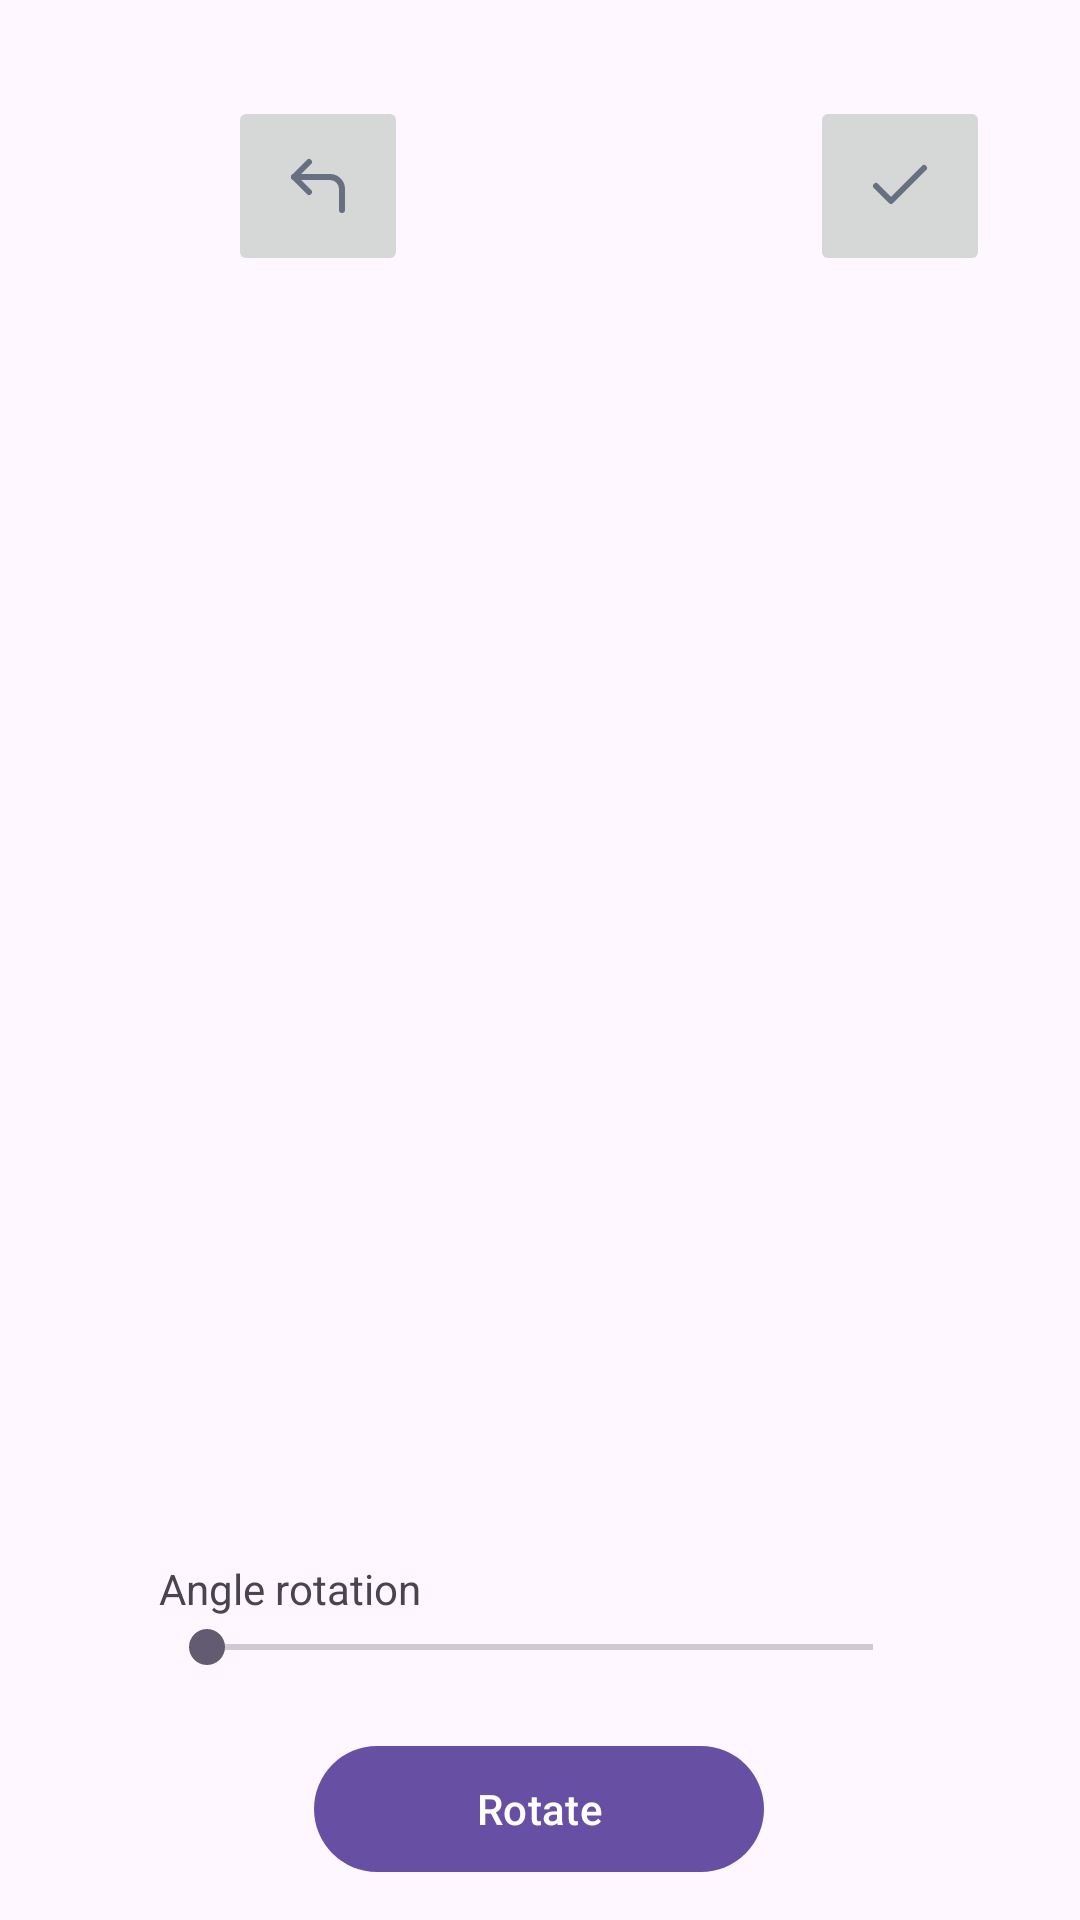

Point at icon controls on the screen. Image size 1080w x 1920h, points as (x=x, y=y).
check: (x=900, y=186)
corner up left: (x=318, y=186)
